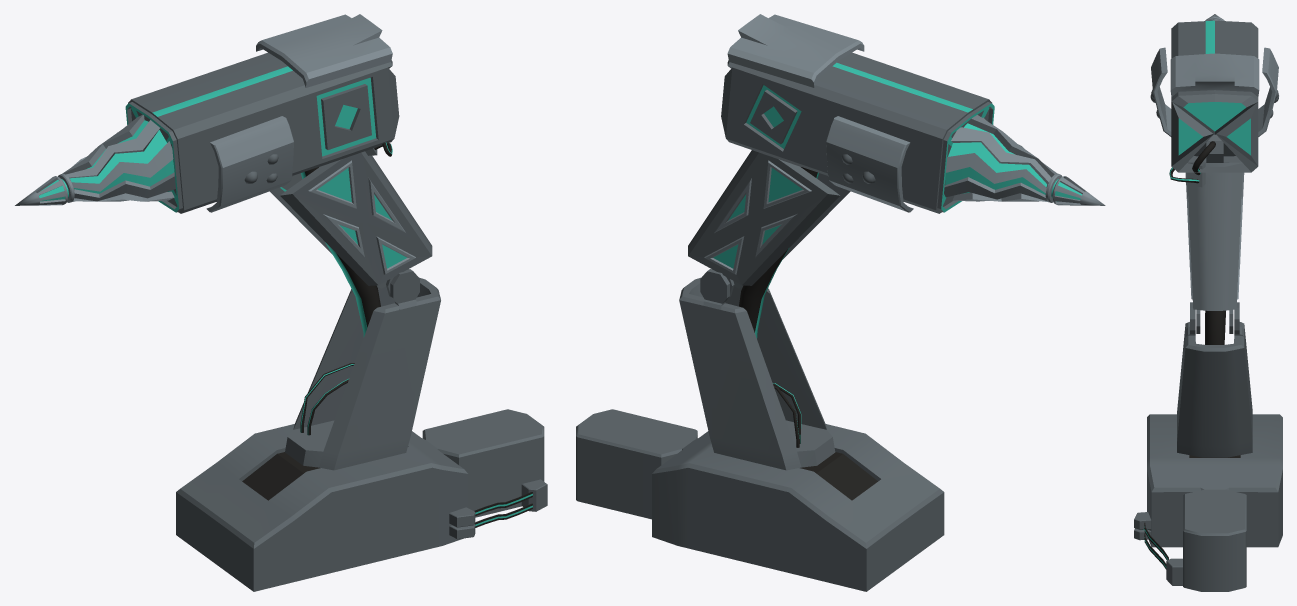
The model's file is SM_Drill_machine.fbx.
3 renders of one model, left to right at view 1: azimuth 30°, elevation 25°; view 2: azimuth 150°, elevation 25°; view 3: azimuth 270°, elevation 25°, orthographic. The views are drawn at different scales.
Visible parts, largest first — view 1: pCylinder13; view 2: pCylinder13; view 3: pCylinder13.
Part boxes in pixels (<box>): pCylinder13: <box>15,14,547,591</box>; pCylinder13: <box>576,14,1105,591</box>; pCylinder13: <box>1134,14,1282,591</box>.
Bounding box in the file's own units: 6.51 × 5.99 × 1.84.
